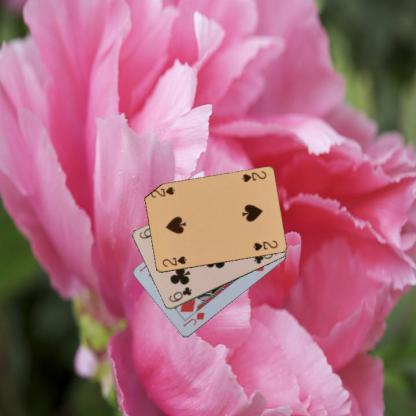2s: (239, 168, 268, 184), (159, 254, 188, 268)
6c: (166, 284, 193, 304)
Jd: (180, 310, 206, 328)
